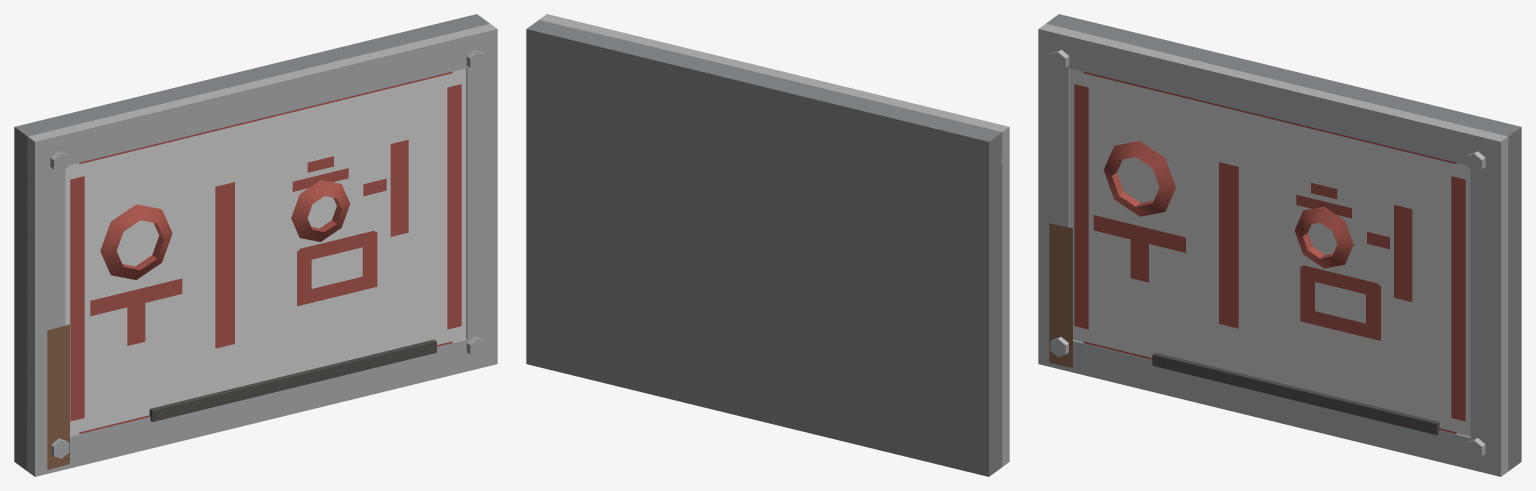
File: Dress_WallSign.fbx
The picture shows the model from 3 angles, left to right: view 1: azimuth 30°, elevation 25°; view 2: azimuth 150°, elevation 25°; view 3: azimuth 330°, elevation 25°; orthographic projection.
Visible parts, largest first — view 1: Dress_WallSign; view 2: Dress_WallSign; view 3: Dress_WallSign.
Boxes of the visible parts, box(x1,y1,x2,y2) form: Dress_WallSign: box(14, 14, 497, 476); Dress_WallSign: box(526, 14, 1009, 476); Dress_WallSign: box(1038, 14, 1521, 476).
Bounding box in the file's own units: 52 × 36 × 4.8.
